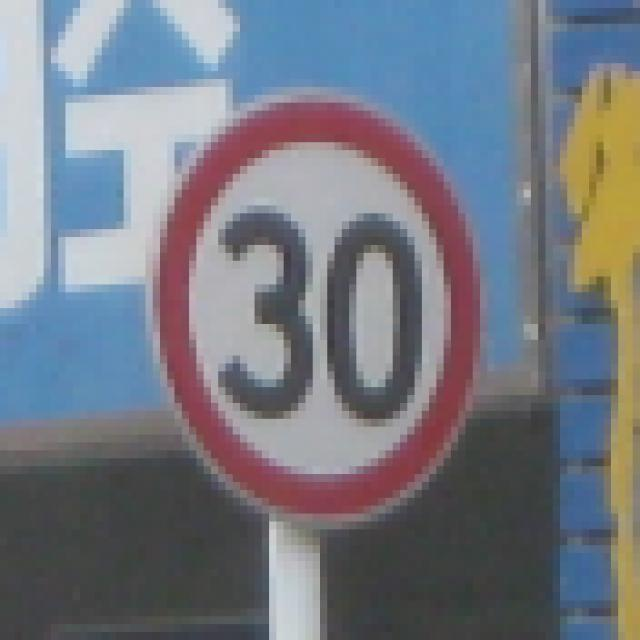Speed: (151, 82, 556, 523)
